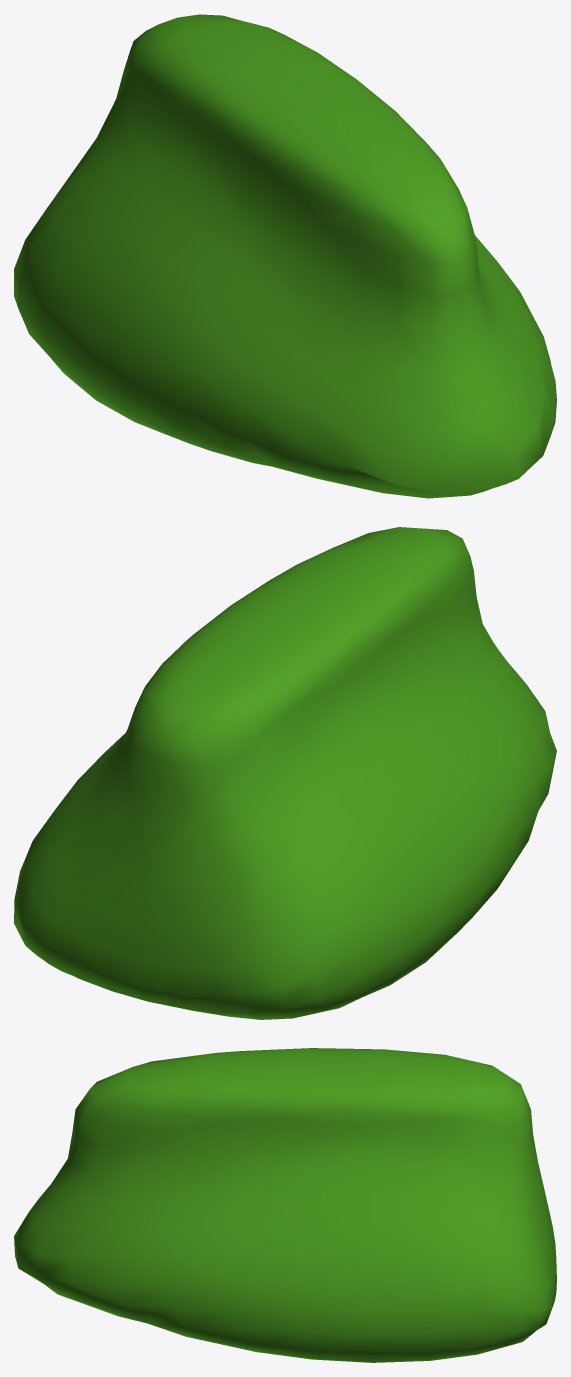
Rendered from Bush 10.fbx.
3 views of the same model, one above another, from view 1: azimuth 30°, elevation 25°; view 2: azimuth 150°, elevation 25°; view 3: azimuth 270°, elevation 25° (orthographic). The views are drawn at different scales.
Visible parts, largest first — view 1: Cube; view 2: Cube; view 3: Cube.
Part boxes in pixels (left/top/right/bottom): Cube: left=14, top=14, right=556, bottom=498; Cube: left=14, top=527, right=556, bottom=1019; Cube: left=14, top=1048, right=556, bottom=1362.
Bounding box in the file's own units: 254 × 206 × 417.
